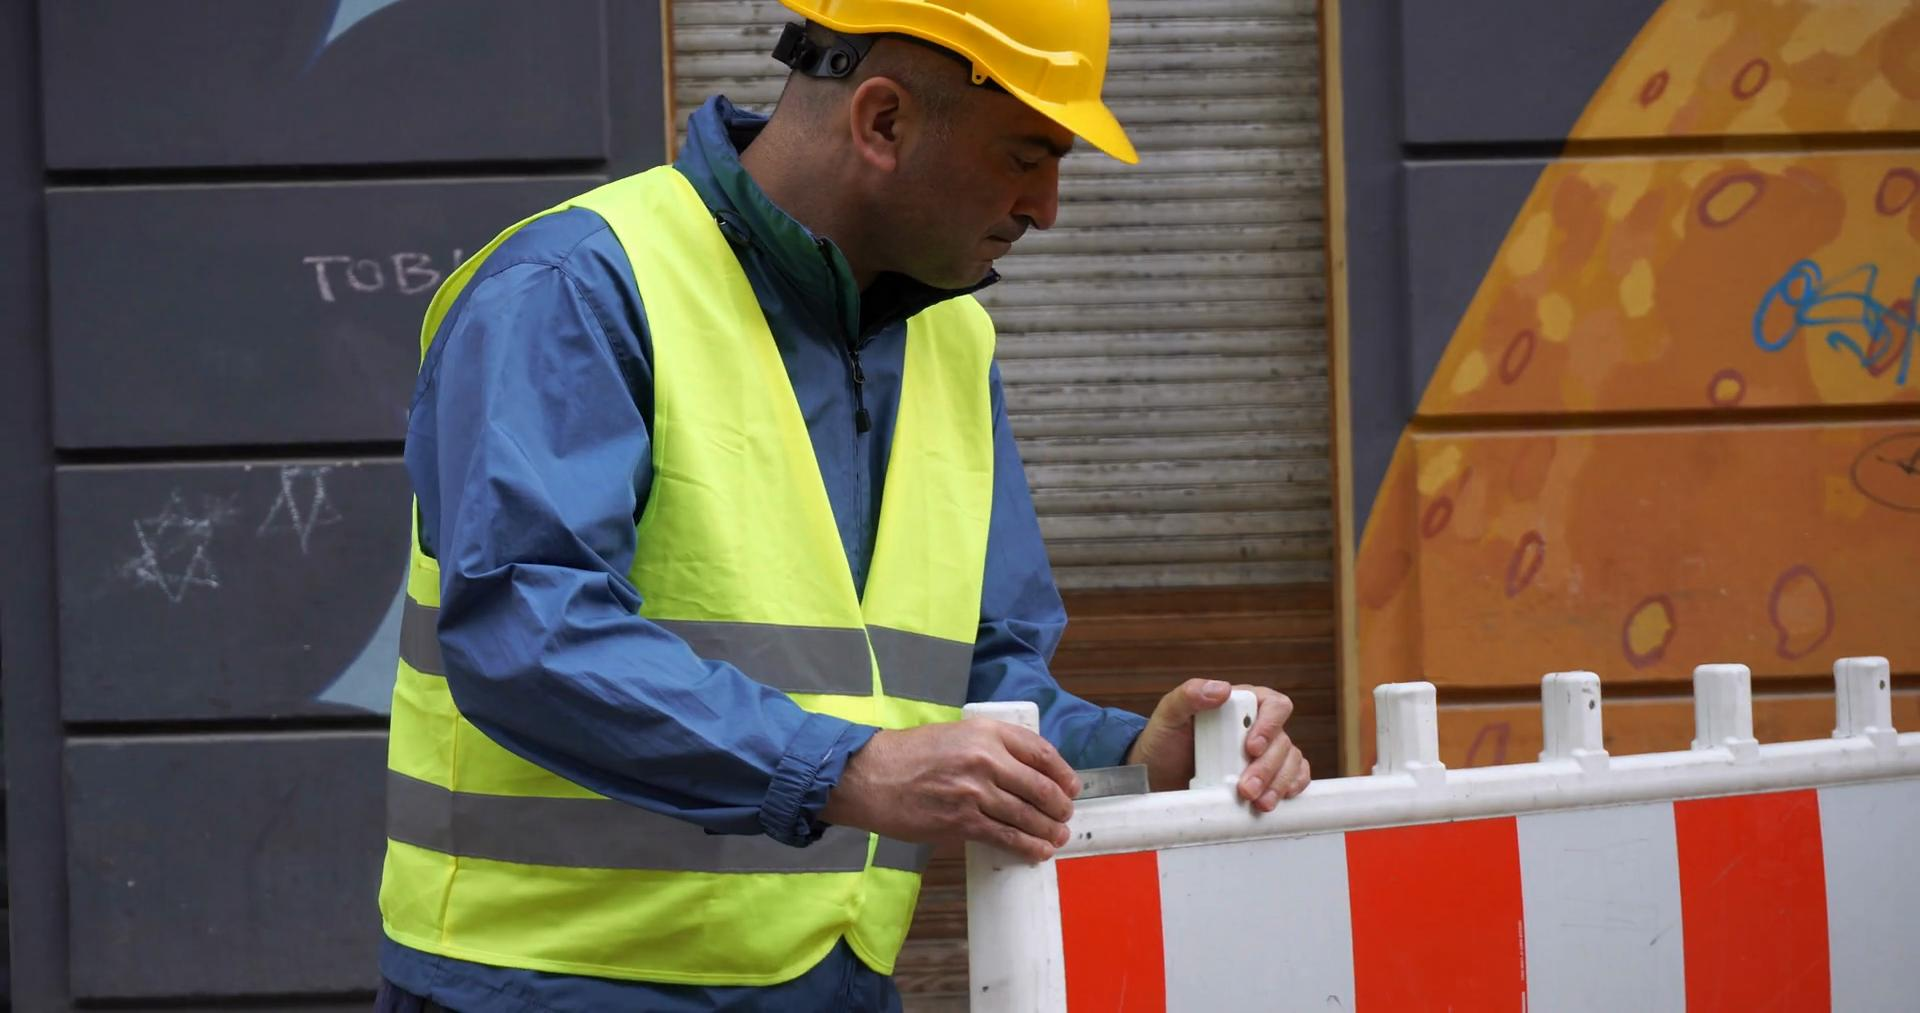hardhat: (775, 4, 1143, 170)
worker: (375, 4, 1314, 1010)
